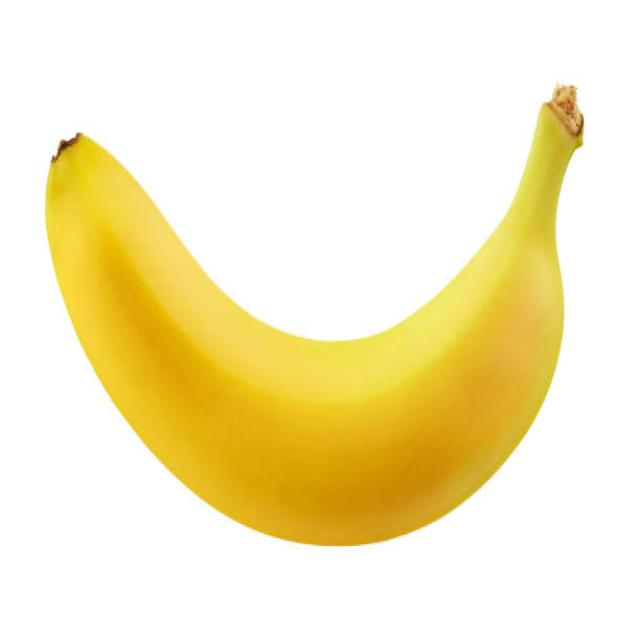Ripe: (41, 125, 578, 551)
